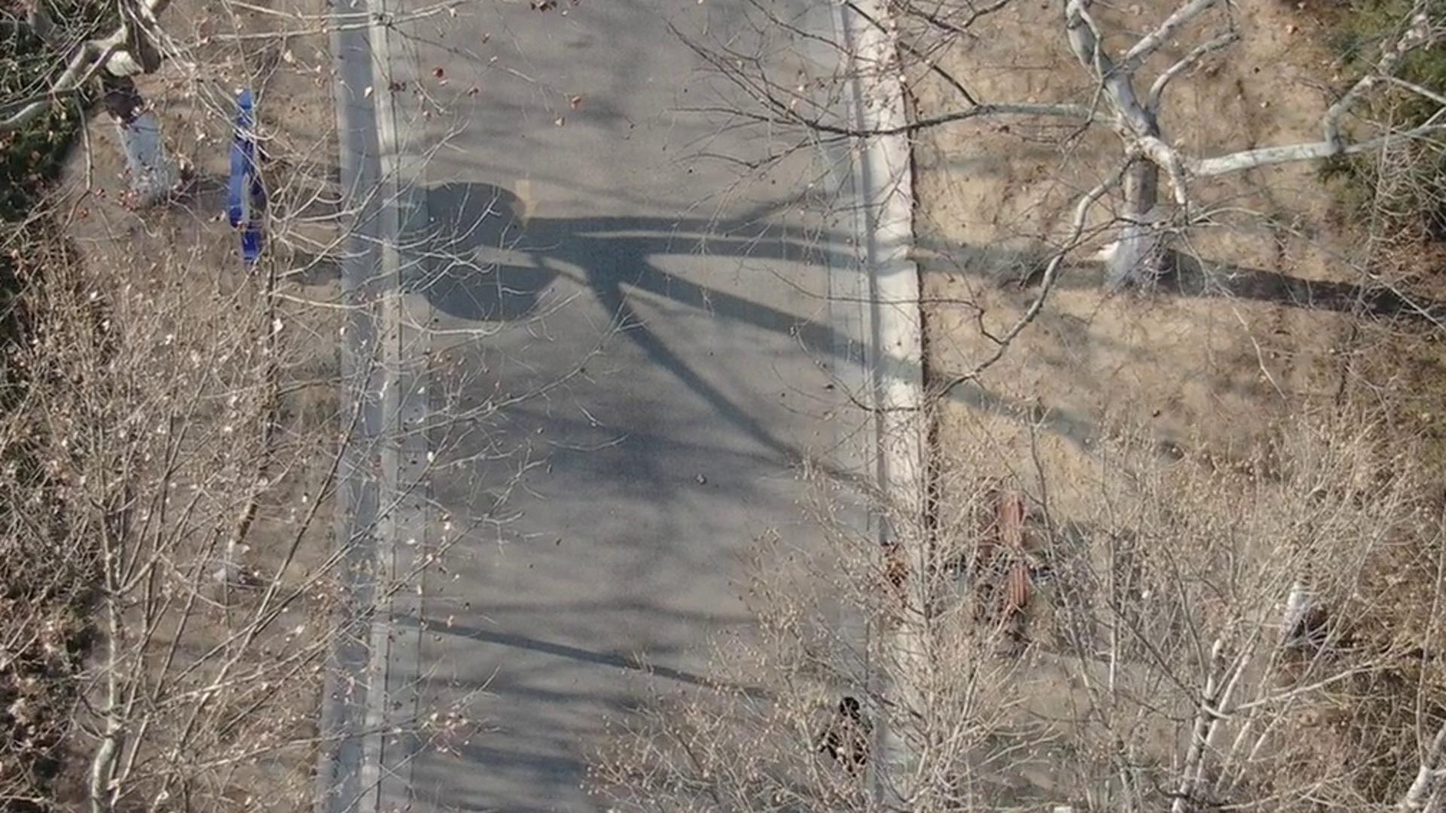human: (827, 681, 880, 796)
